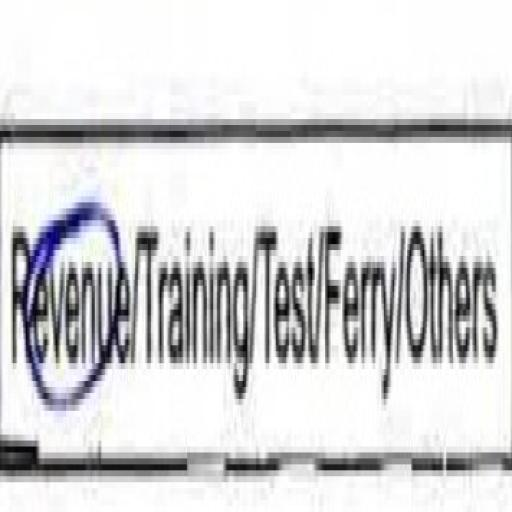check: (4, 14, 136, 512)
